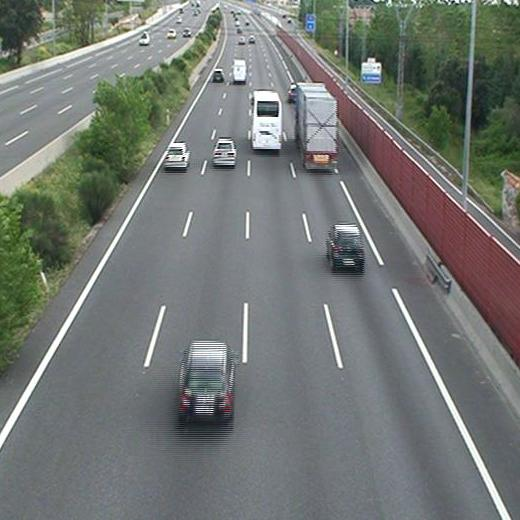bus: (251, 92, 282, 148)
car: (179, 342, 233, 419), (328, 224, 363, 267), (165, 144, 189, 168), (214, 140, 237, 165), (212, 70, 224, 82), (249, 34, 256, 44), (239, 35, 246, 45)
truck: (297, 83, 337, 168)
van: (232, 58, 246, 82)
